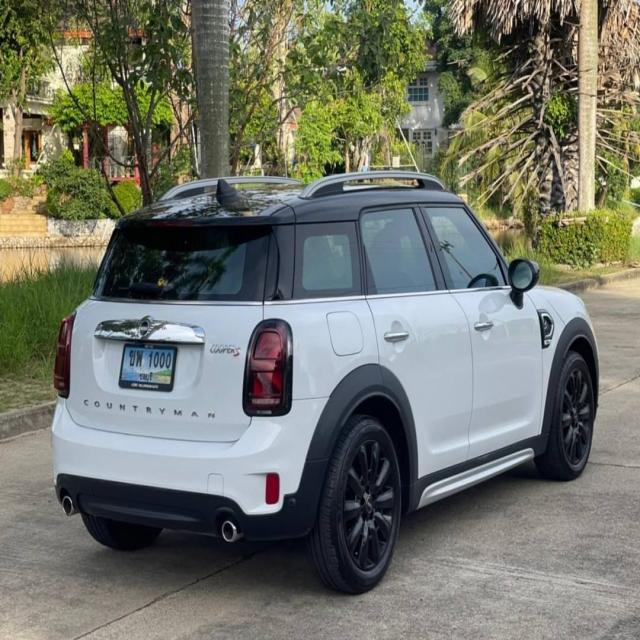license_plate: (119, 343, 178, 389)
